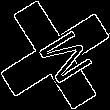M_SW: (21, 22, 89, 88)
